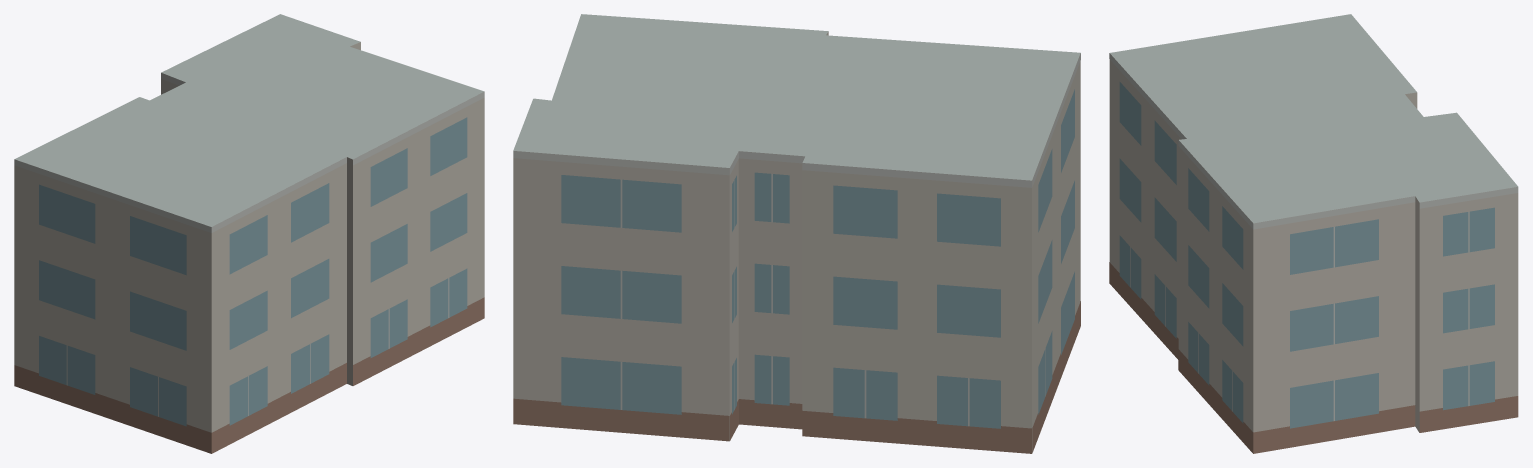
File: survey-upis-33005782.glb
The picture shows the model from 3 angles, left to right: view 1: azimuth 30°, elevation 25°; view 2: azimuth 150°, elevation 25°; view 3: azimuth 270°, elevation 25°; orthographic projection. The views are drawn at different scales.
Parts seen in each view (by area): view 1: survey-upis-33005782.tmp; view 2: survey-upis-33005782.tmp; view 3: survey-upis-33005782.tmp.
Boxes of the visible parts, x1=… form: survey-upis-33005782.tmp: x1=14, y1=14, x2=484, y2=453; survey-upis-33005782.tmp: x1=513, y1=14, x2=1080, y2=453; survey-upis-33005782.tmp: x1=1109, y1=14, x2=1518, y2=453.
Bounding box in the file's own units: 17.84 × 9.15 × 14.72.
